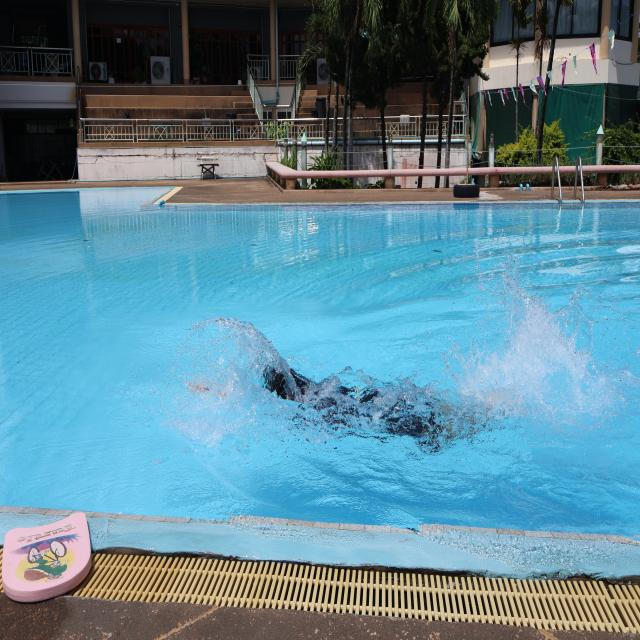Swimming: (219, 324, 483, 454)
